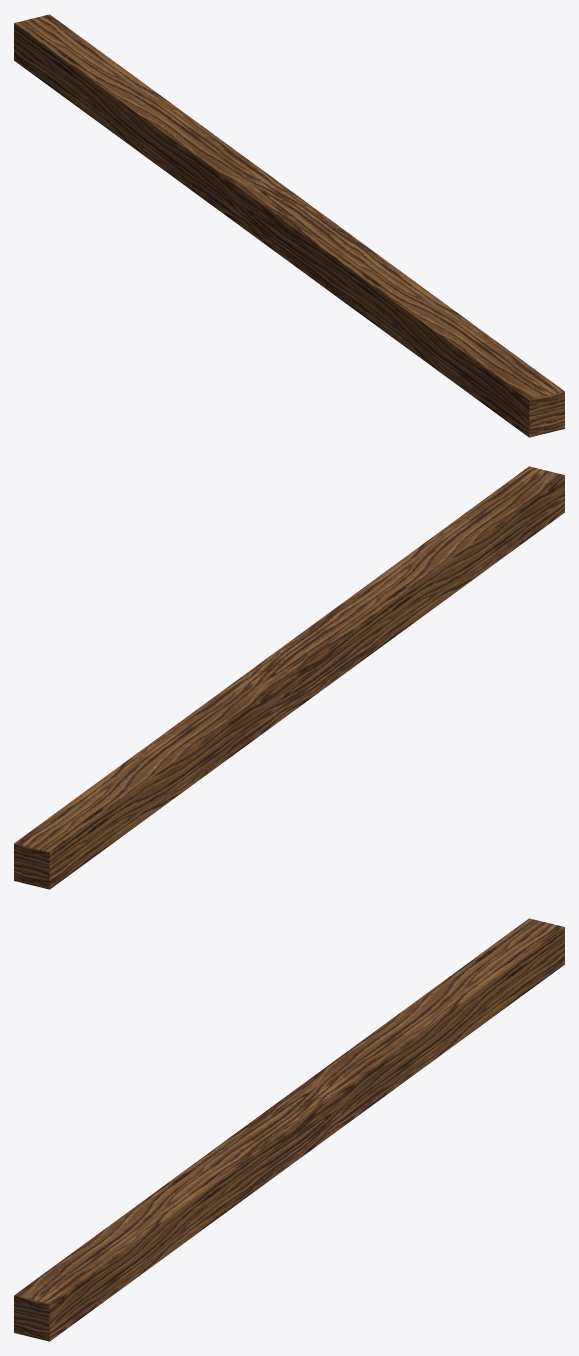
Rendered from LAKETOWN_WAREHOUSE2_PS_WH2_ROPETRACK__GX.obj.
3 views of the same model, one above another, from view 1: azimuth 30°, elevation 25°; view 2: azimuth 150°, elevation 25°; view 3: azimuth 330°, elevation 25° (orthographic).
Parts seen in each view (by area): view 1: 2_RopeTrack__GX; view 2: 2_RopeTrack__GX; view 3: 2_RopeTrack__GX.
Part boxes in pixels (bbox=[...]): 2_RopeTrack__GX: bbox=[14, 14, 564, 437]; 2_RopeTrack__GX: bbox=[14, 466, 564, 889]; 2_RopeTrack__GX: bbox=[14, 918, 564, 1341].
Size of the model in its own units: 50.15 by 51.32 by 1251.
